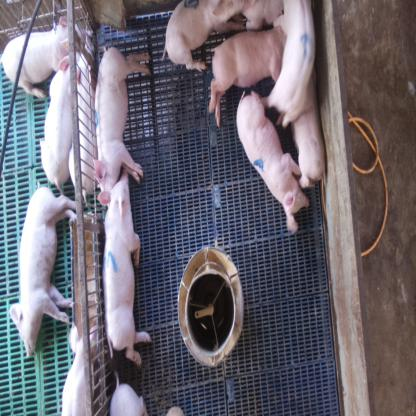3: (104, 250, 118, 272)
N-A: (300, 32, 313, 64)
